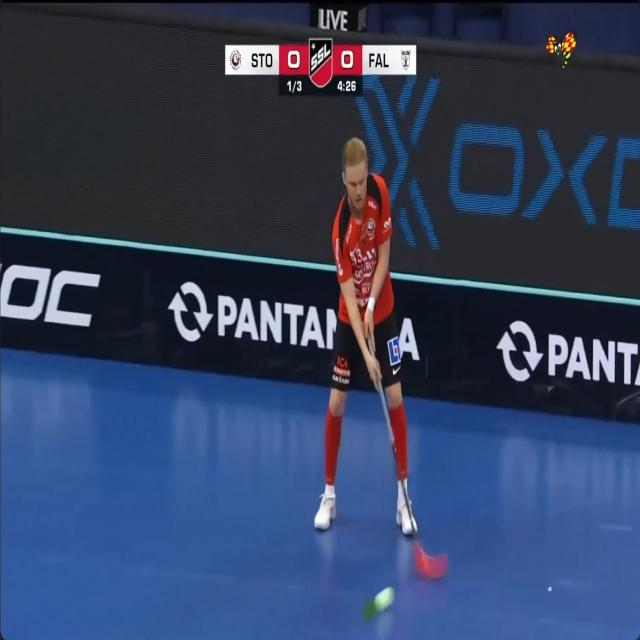Balls: (374, 586, 394, 612)
player: (314, 138, 411, 534), (413, 519, 416, 529)
